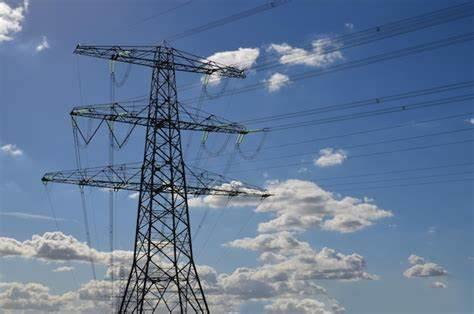power_tower: (42, 38, 255, 314)
